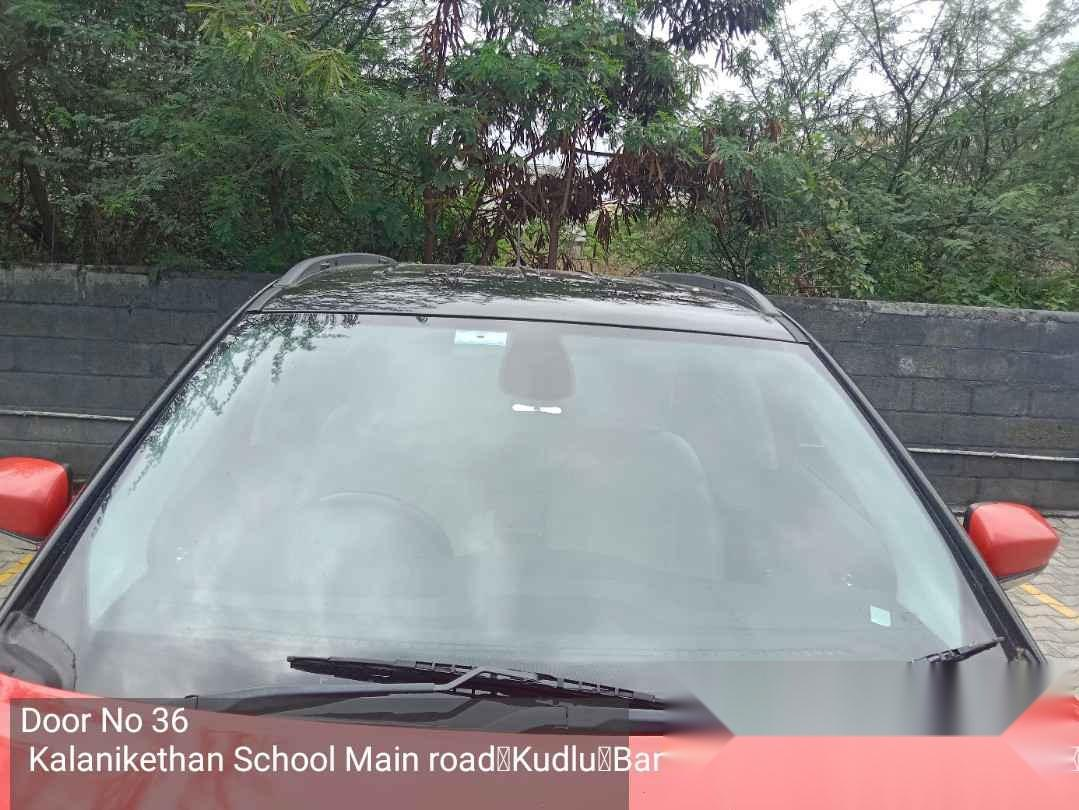FastTag: (433, 319, 530, 370)
